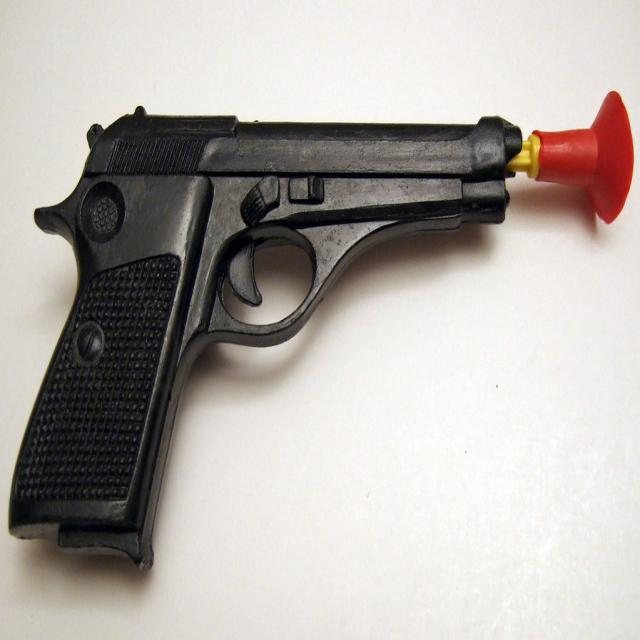gun: (11, 22, 636, 597)
